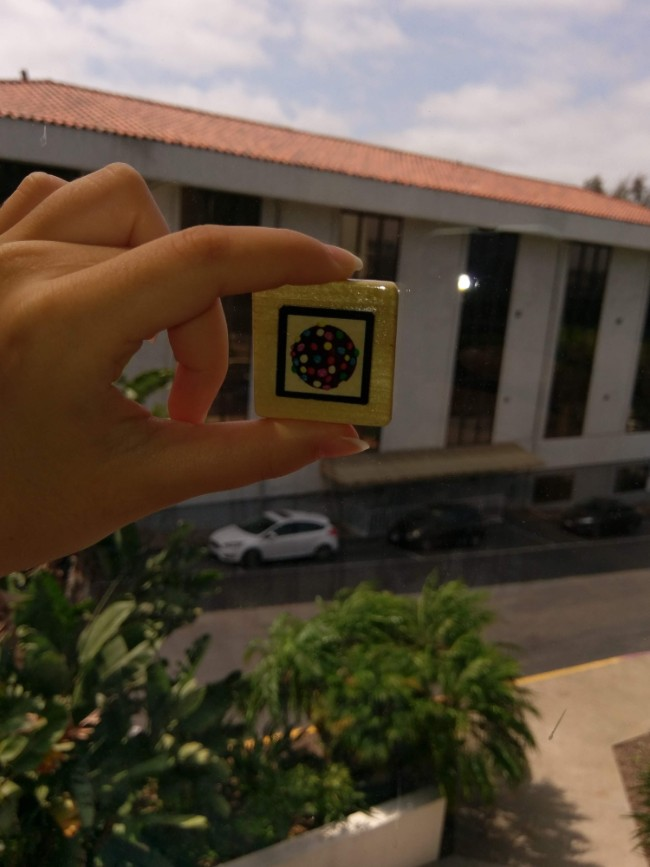cookie: (261, 289, 386, 419)
